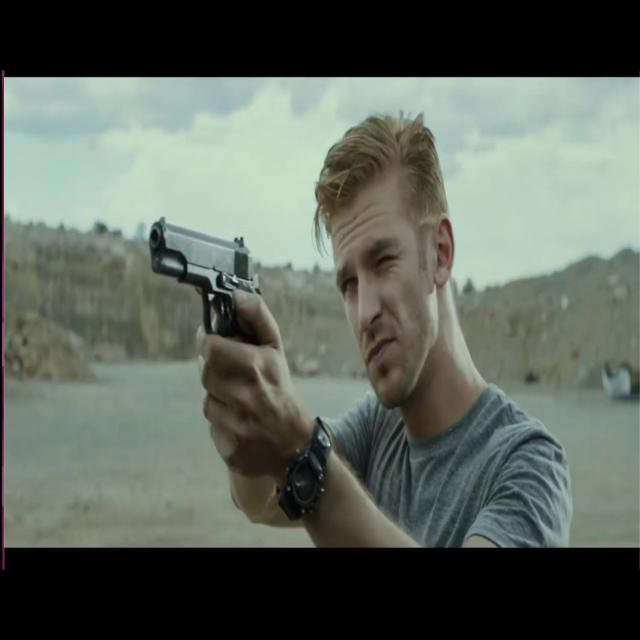weapons: (140, 200, 267, 374)
